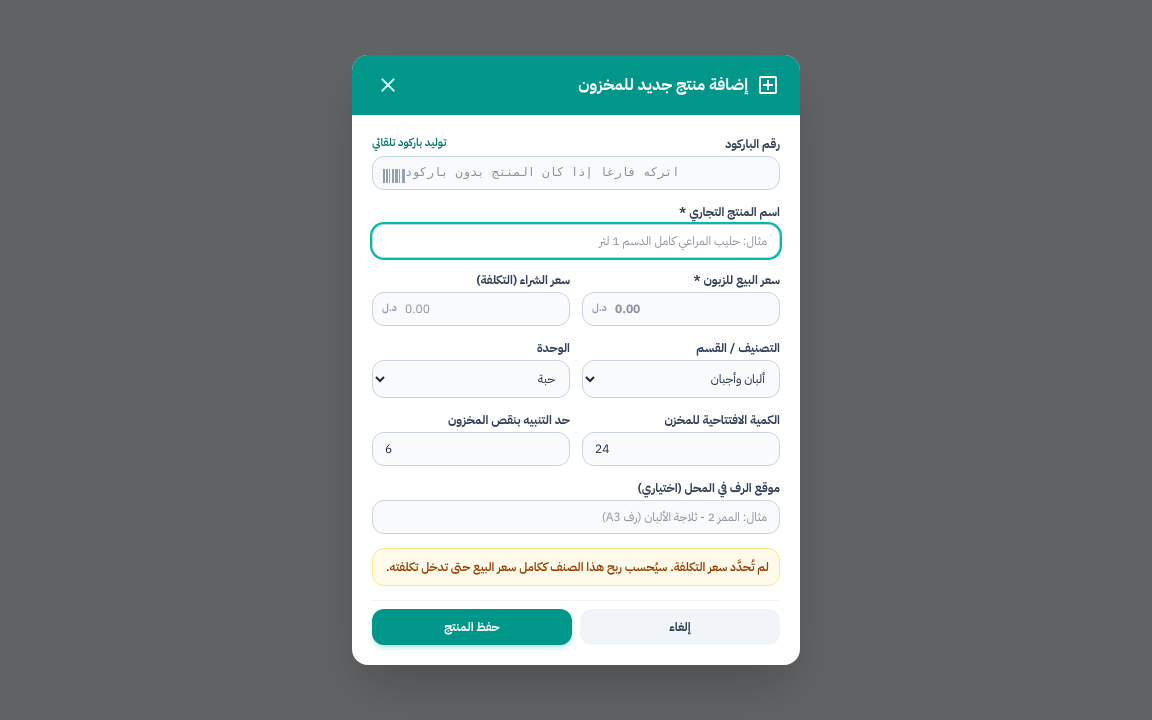
Scenario: AddProductModal - cost is never invented › warns that profit will read high while the cost is unknown
Type "حليب" into the field labelled "اسم المنتج التجاري *".
click(576, 241); type("حليب")  # box x1=372 y1=224 x2=780 y2=258
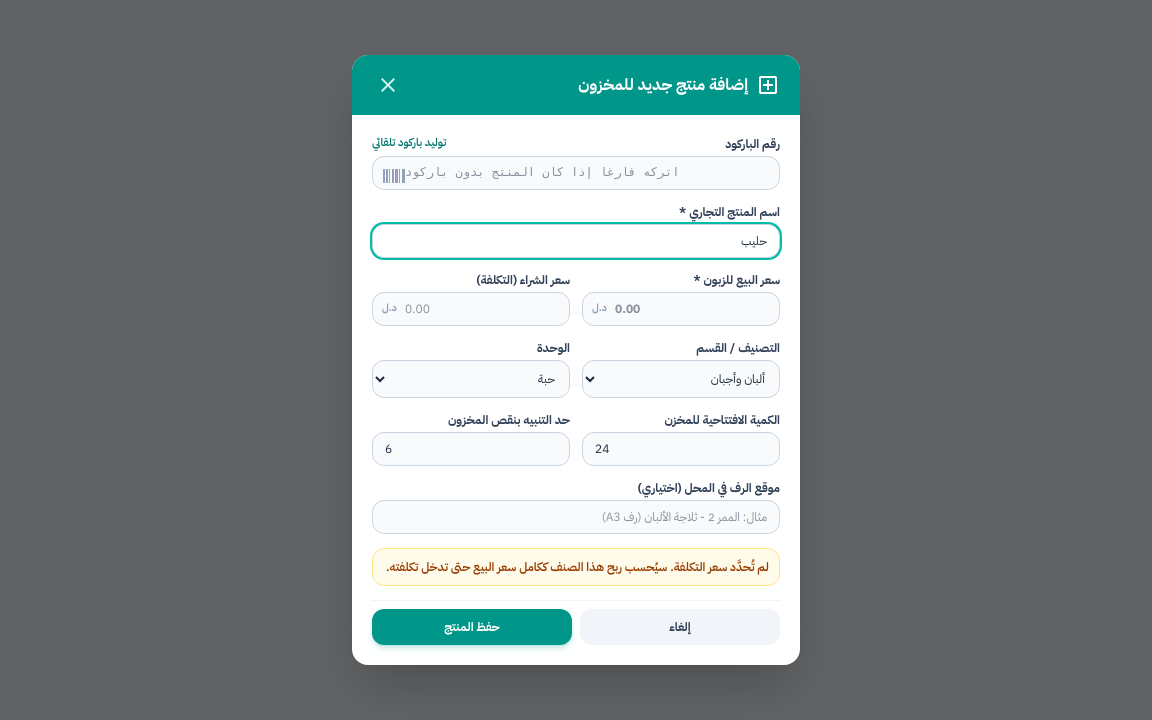
Type "10" into the number field labelled "سعر البيع للزبون *".
click(681, 309); type("10")  # box x1=582 y1=292 x2=780 y2=326
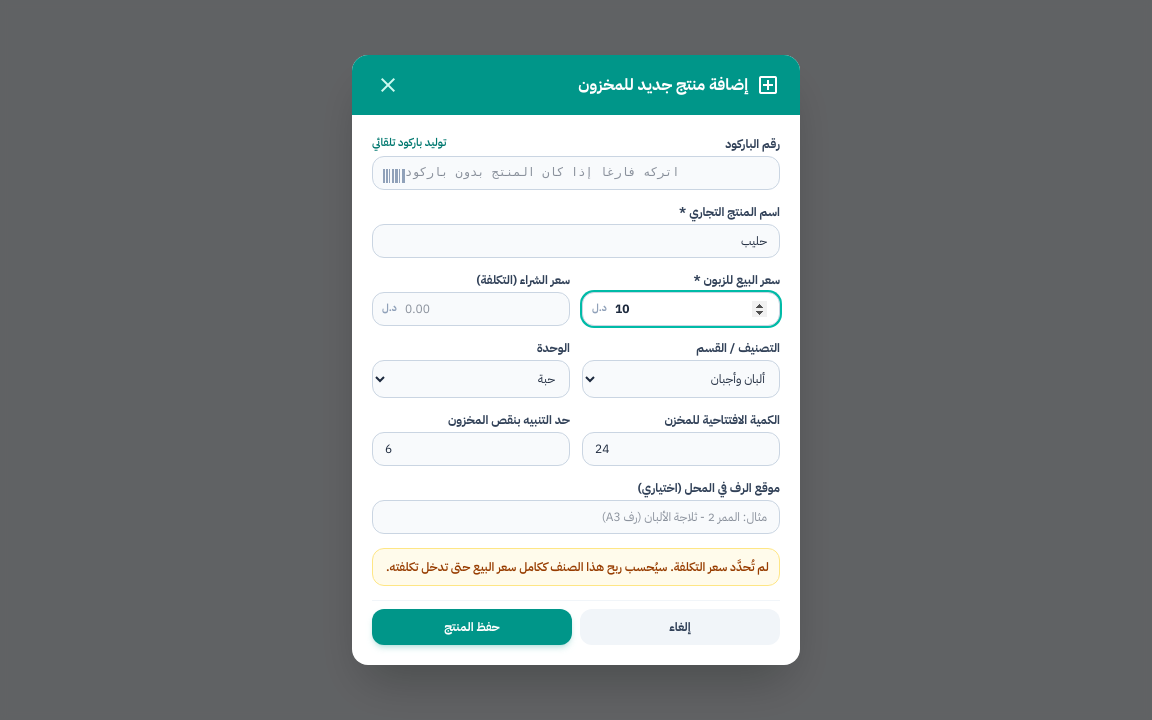
Clear the number field labelled "الكمية الافتتاحية للمخزن" at (681,449), box x1=582 y1=432 x2=780 y2=466
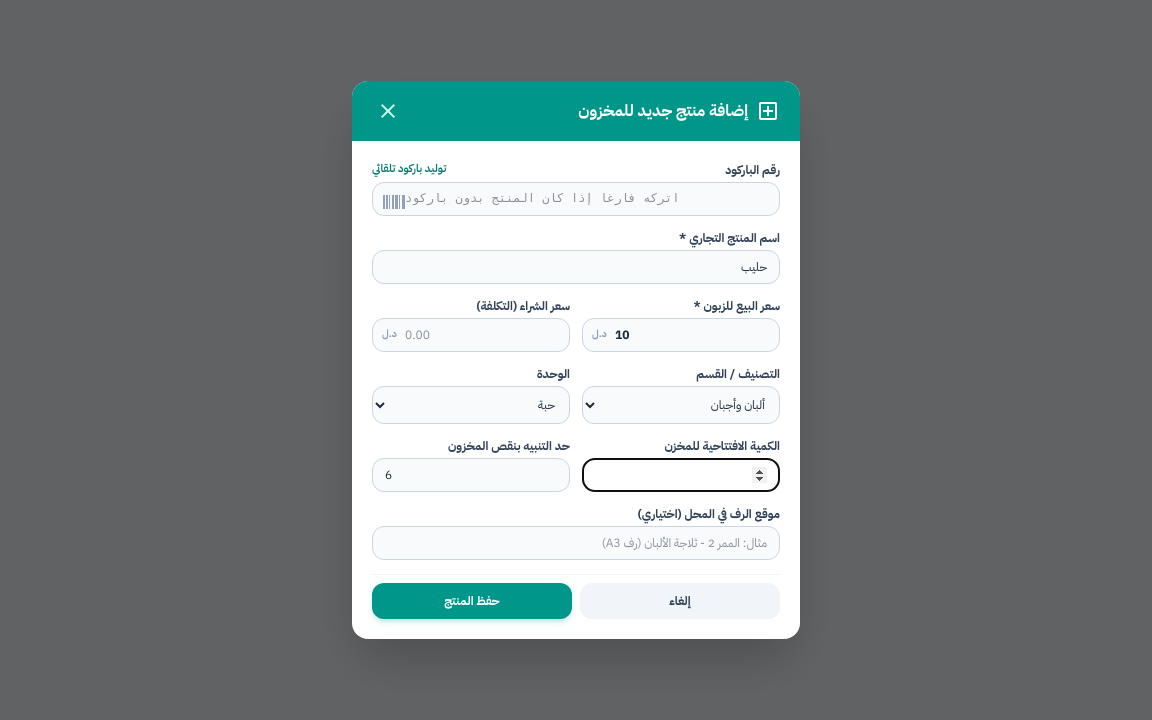
Type "20" into the number field labelled "الكمية الافتتاحية للمخزن".
click(681, 475); type("20")  # box x1=582 y1=458 x2=780 y2=492
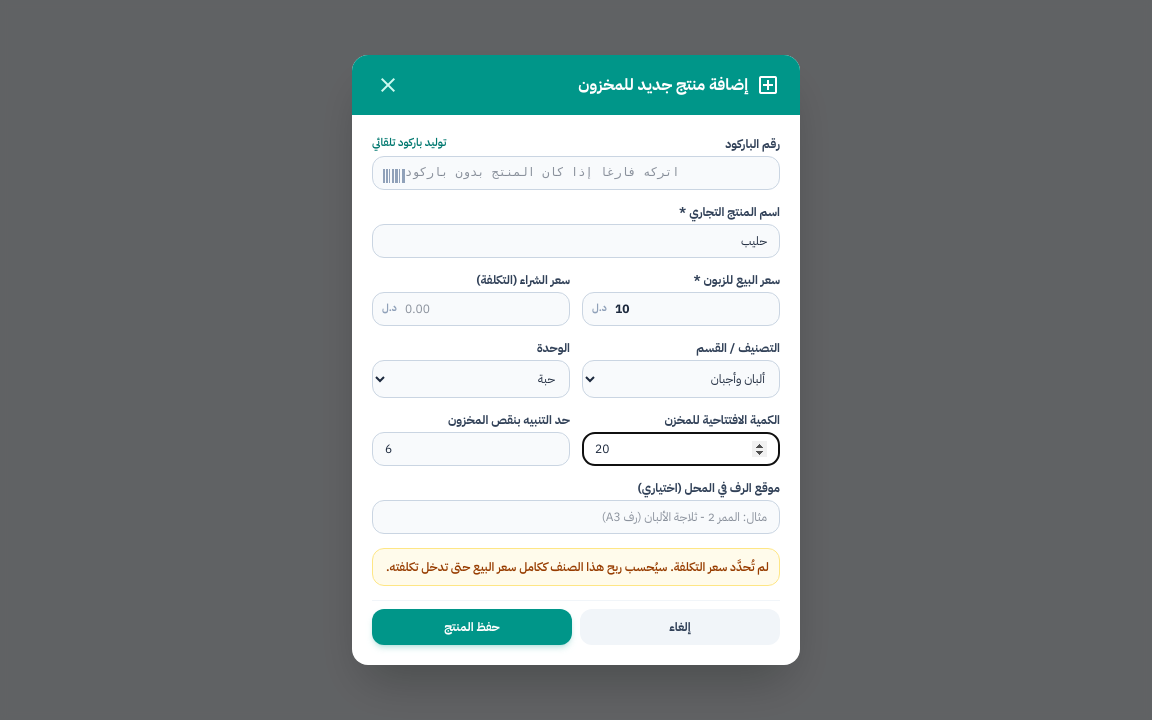
Now the message shows "لم تُحدَّد سعر التكلفة", box x1=386 y1=558 x2=769 y2=576
